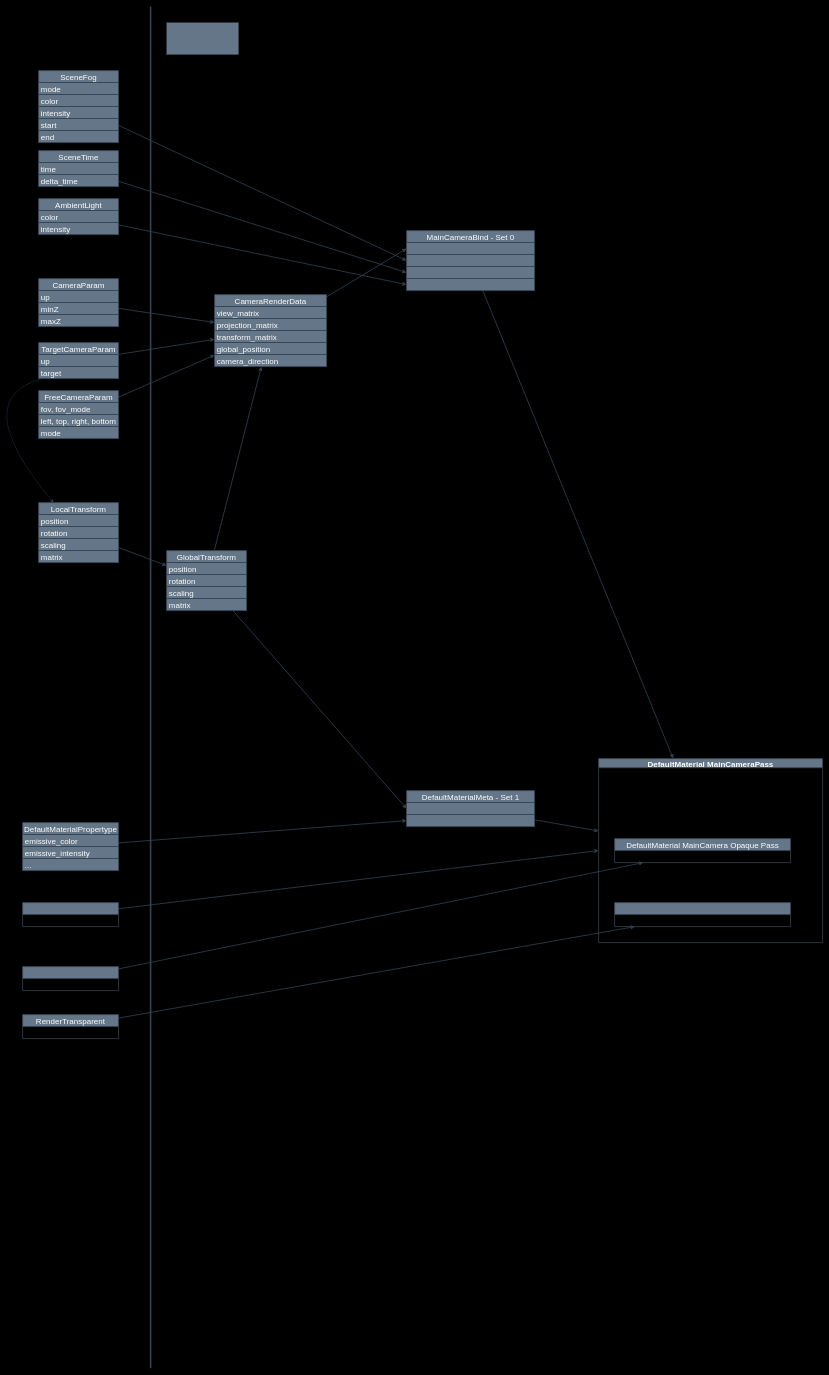
The diagram is 829 pixels wide and 1375 high, and some of its shapes have lost their labels. Here are the shapes that lost their labels. From the top down, the centre of each, then its label:
At pixel 202 38: "仅内部处理".
At pixel 470 248: "Bind - Camera".
At pixel 470 260: "Bind - Fog".
At pixel 470 272: "Bind - Time".
At pixel 470 284: "Bind - AmbientLight".
At pixel 470 808: "Bind - Model".
At pixel 470 820: "Bind - propertypes".
At pixel 70 914: "GeometryMeta".
At pixel 702 914: "DefaultMaterial MainCamera Transparent Pass".
At pixel 70 978: "RenderOpaque".
